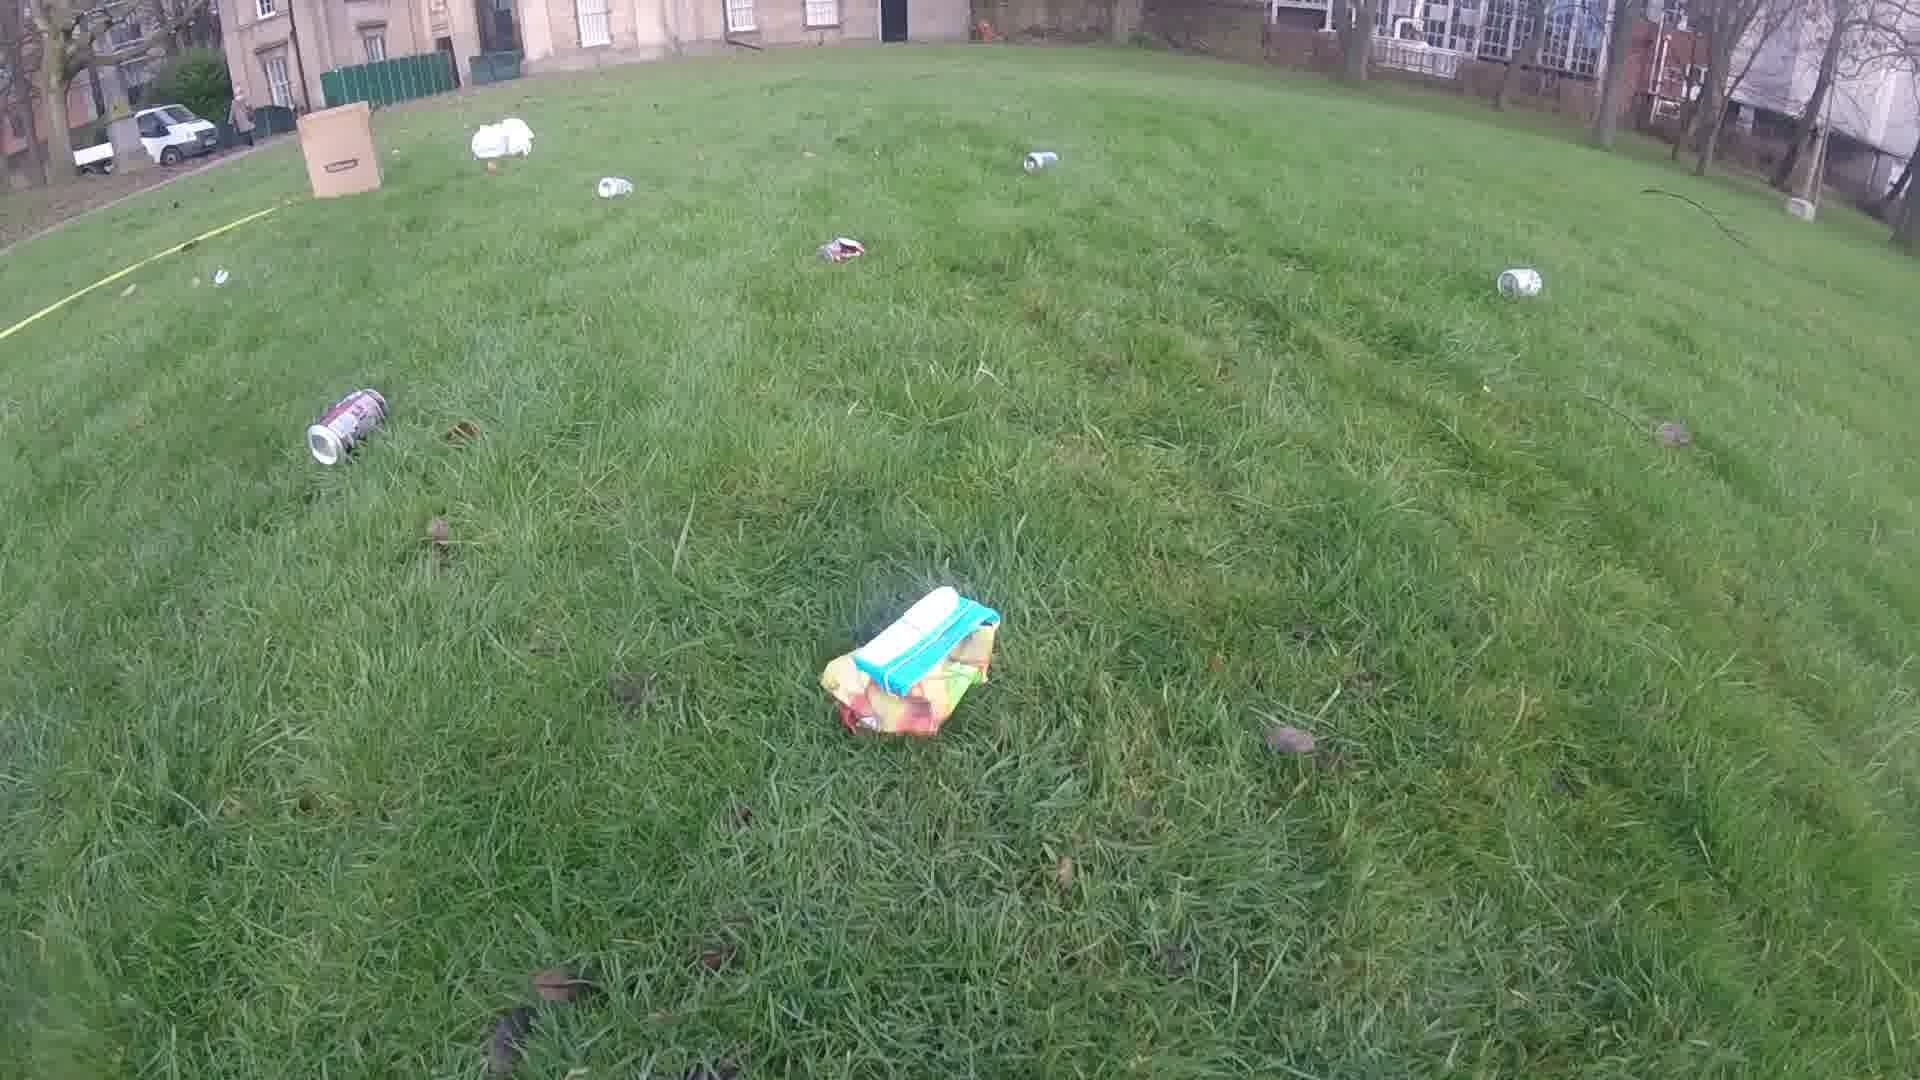litter: (818, 585, 1001, 735), (293, 99, 384, 199), (302, 385, 386, 465), (467, 115, 535, 161), (1493, 265, 1540, 297), (818, 236, 860, 261), (1021, 149, 1058, 173), (593, 177, 632, 196), (211, 269, 229, 284)
